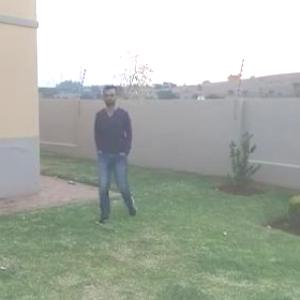follow: (90, 84, 134, 211)
